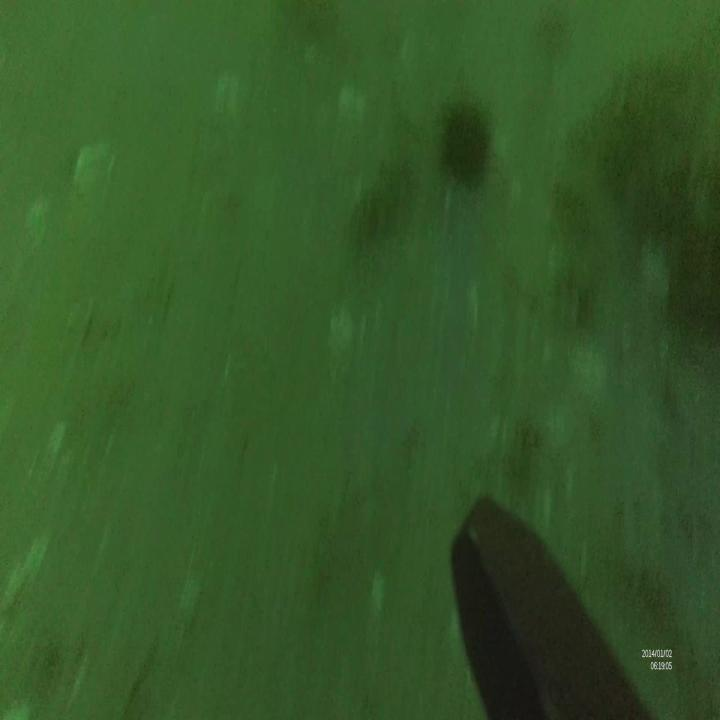echinus: (439, 96, 490, 185)
